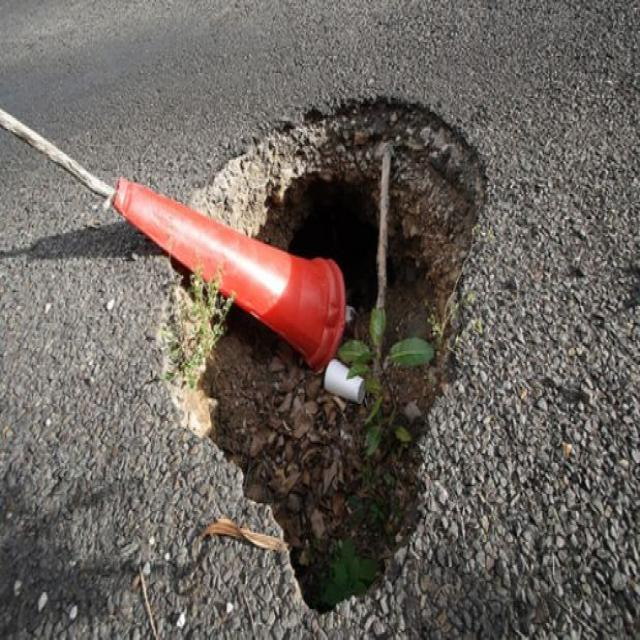pothole: (154, 85, 493, 620)
